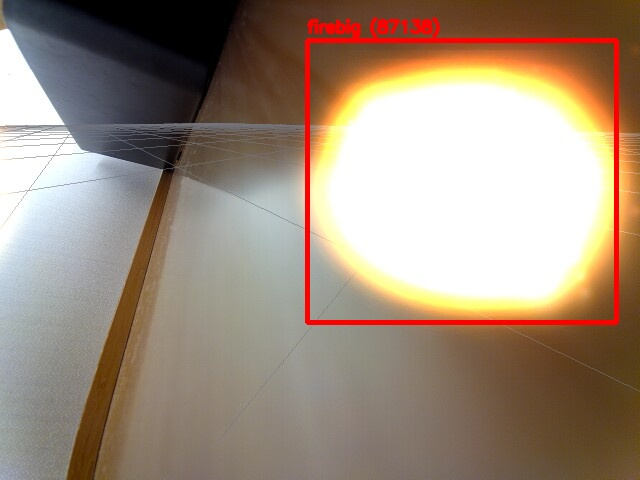firebig: (307, 40, 616, 322)
